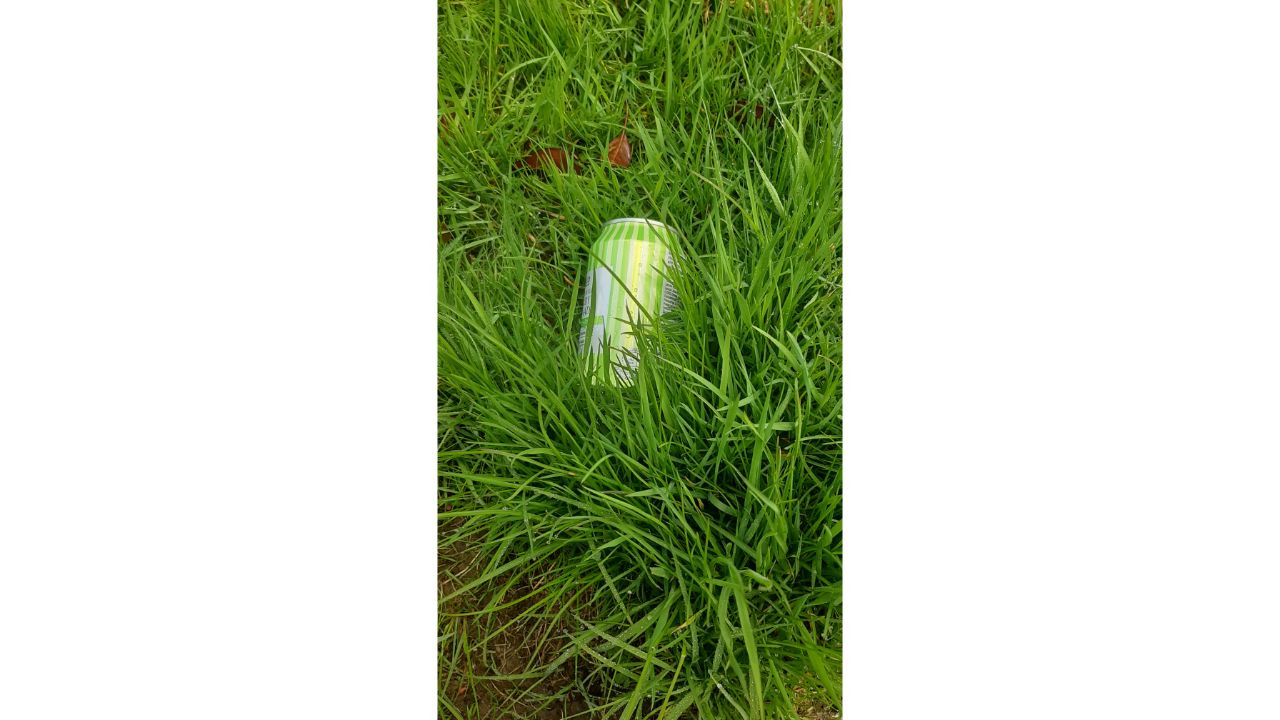Can: (572, 210, 692, 395)
